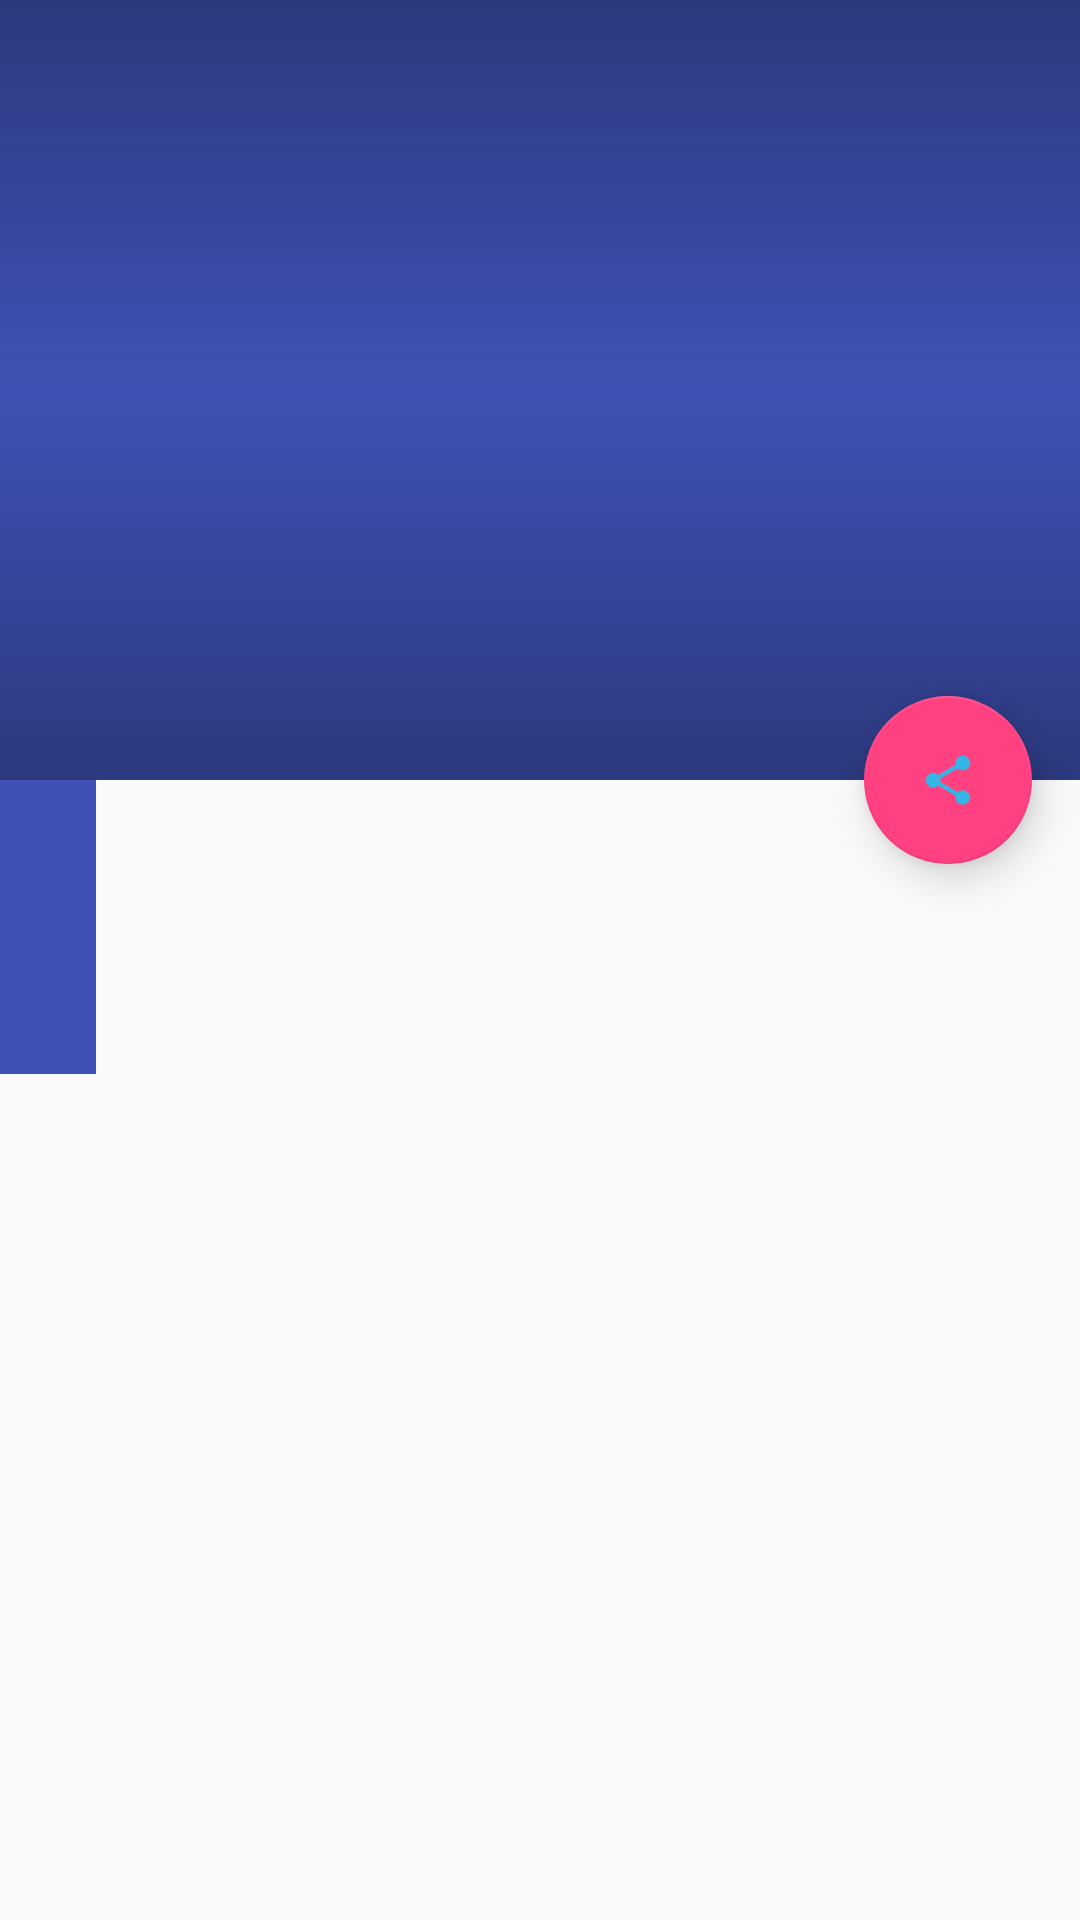

Point at icon controls on the screen. Image size 1080px×1920px, points as point (x, y).
social share: point (948, 780)
